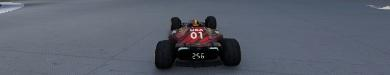Car: (153, 15, 241, 69)
